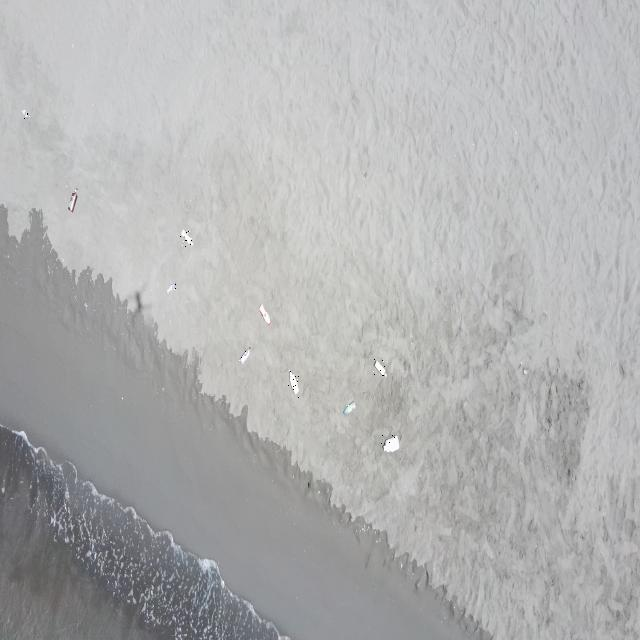Garbage: (384, 435, 399, 451), (289, 369, 298, 395), (260, 303, 270, 324), (342, 400, 355, 415), (180, 228, 192, 244), (68, 188, 76, 212), (373, 359, 384, 375), (240, 347, 249, 363), (167, 281, 176, 292), (20, 108, 29, 118), (520, 362, 527, 373)
